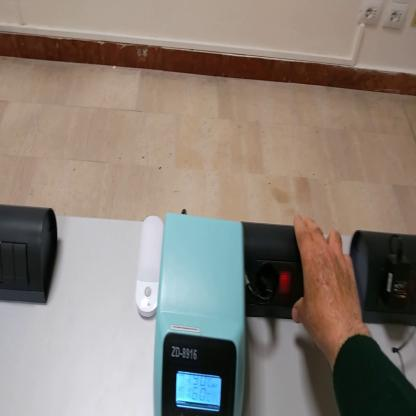hand: (289, 212, 366, 353)
socket: (349, 227, 416, 328), (240, 221, 303, 319)
welder station: (153, 211, 247, 416)
